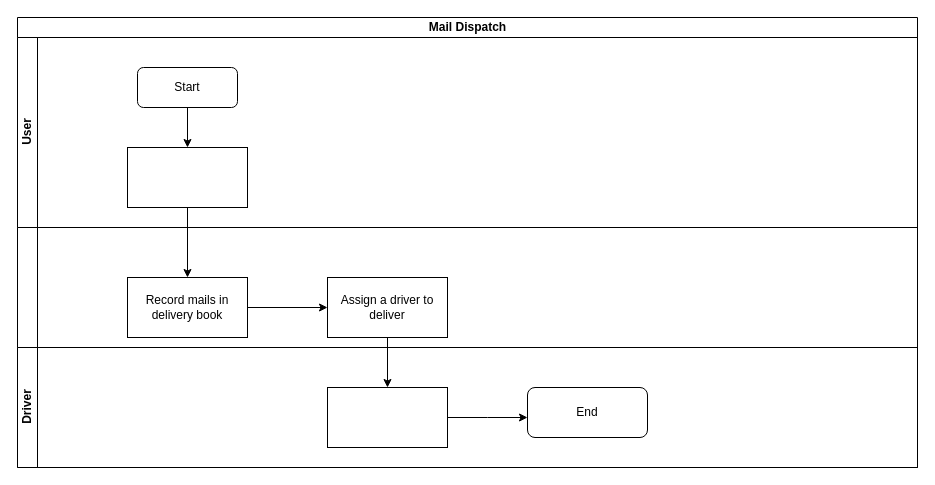
Some shapes in this 935 by 485 pixel diagram are drawn without their labels. The box of each missing label's shape, as (x1, y1, x2, y2) in pixels:
Admin officer: (16, 226, 918, 348)
Deliver letter and inform user: (326, 386, 448, 448)
Deliver mail to admin officer: (126, 146, 248, 208)
